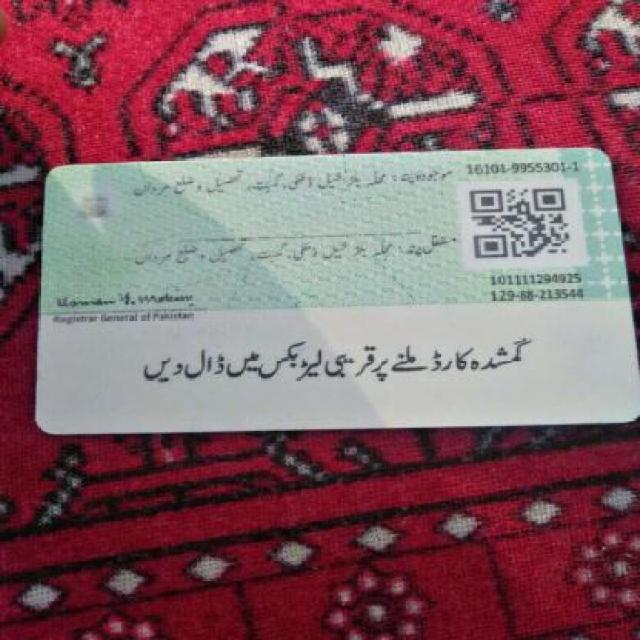Back: (34, 152, 629, 437)
